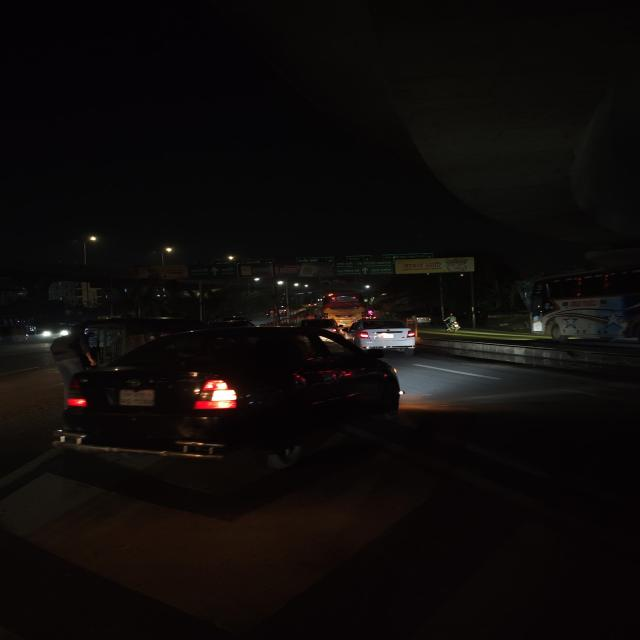bus: (322, 293, 371, 323)
car: (47, 322, 401, 479), (343, 317, 422, 353)
